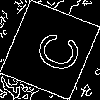C: (24, 25, 84, 76)
